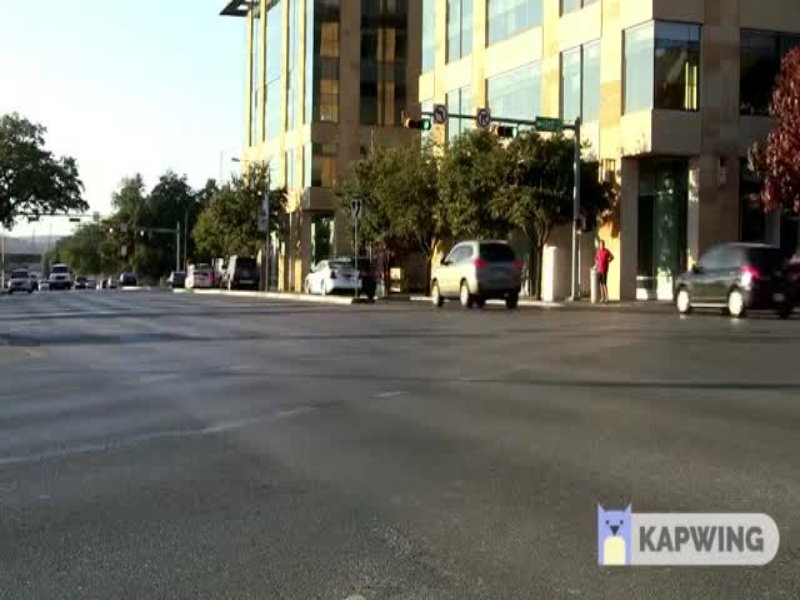suv: (664, 237, 800, 324), (420, 232, 541, 313)
